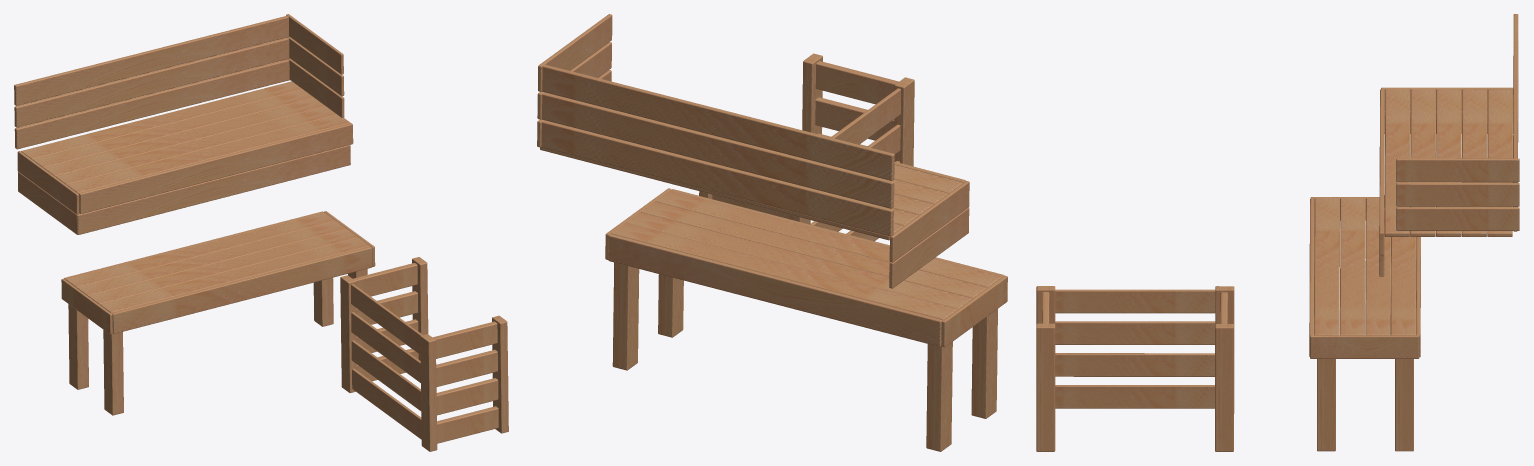
The model's file is sauna.fbx.
3 renders of one model, left to right at view 1: azimuth 30°, elevation 25°; view 2: azimuth 150°, elevation 25°; view 3: azimuth 270°, elevation 25°, orthographic. The views are drawn at different scales.
Visible parts, largest first — view 1: Wooden_parts; view 2: Wooden_parts; view 3: Wooden_parts.
Boxes of the visible parts, x1=… form: Wooden_parts: x1=14, y1=14, x2=508, y2=451; Wooden_parts: x1=537, y1=14, x2=1007, y2=451; Wooden_parts: x1=1036, y1=14, x2=1519, y2=451.
Bounding box in the file's own units: 335 × 310 × 450.
